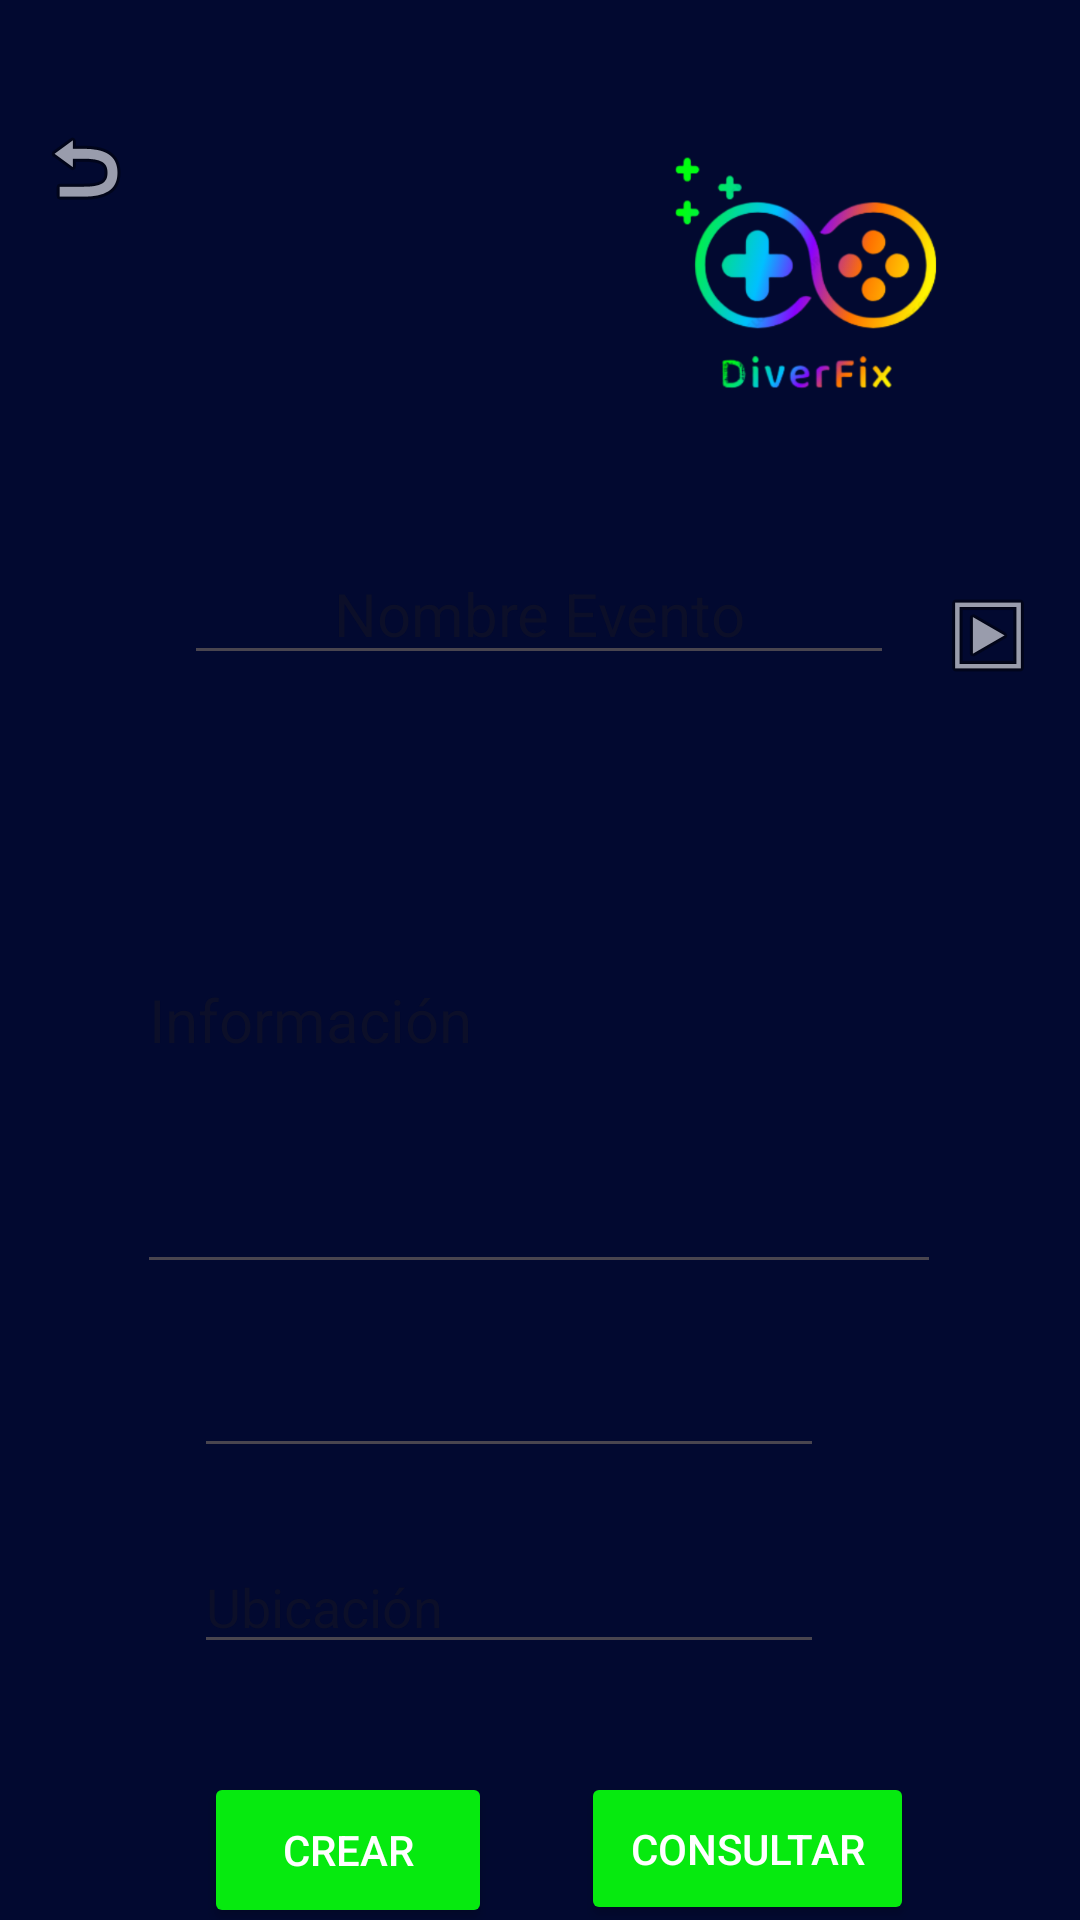

Locate icon controls on the screen. Image size 1080*1920, boxes as (x1, y1, x2, y2).
revert: (54, 140, 118, 198)
slideshow: (954, 602, 1022, 669)
